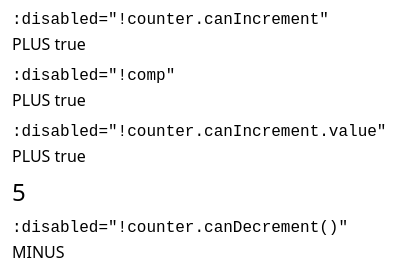
Test: Component: ClickableCounter › Clicking on Increment button increment counter
Click the 1st button with test id "increment-button": point(49, 44) [12,32,86,56]
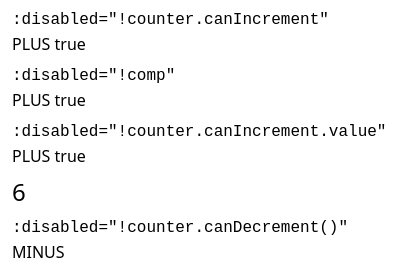
Expected: the text with test id "counter-value" reads "6", [12,175,26,208]
